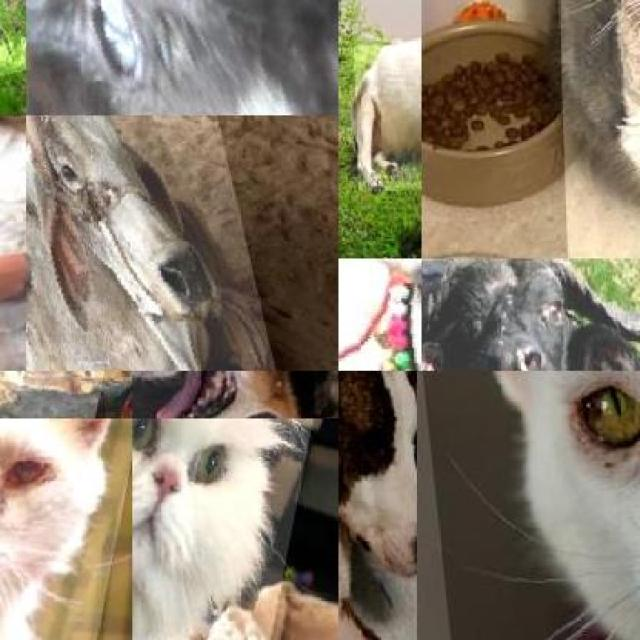buffalo: (421, 258, 640, 370)
cat: (417, 371, 640, 640), (132, 418, 337, 640), (26, 0, 338, 115), (0, 418, 132, 639), (551, 0, 640, 258)
cow: (26, 115, 312, 371), (354, 40, 421, 191)
dog: (338, 371, 417, 640)
injured: (86, 371, 132, 418)
